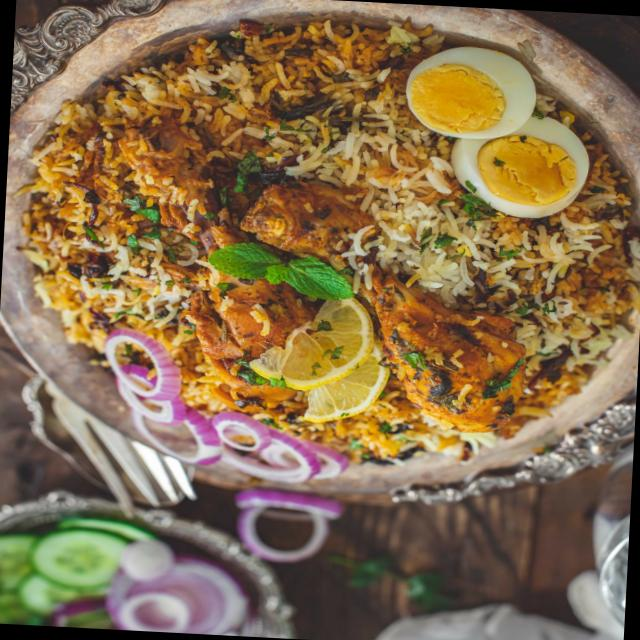Biryani: (11, 0, 640, 494)
